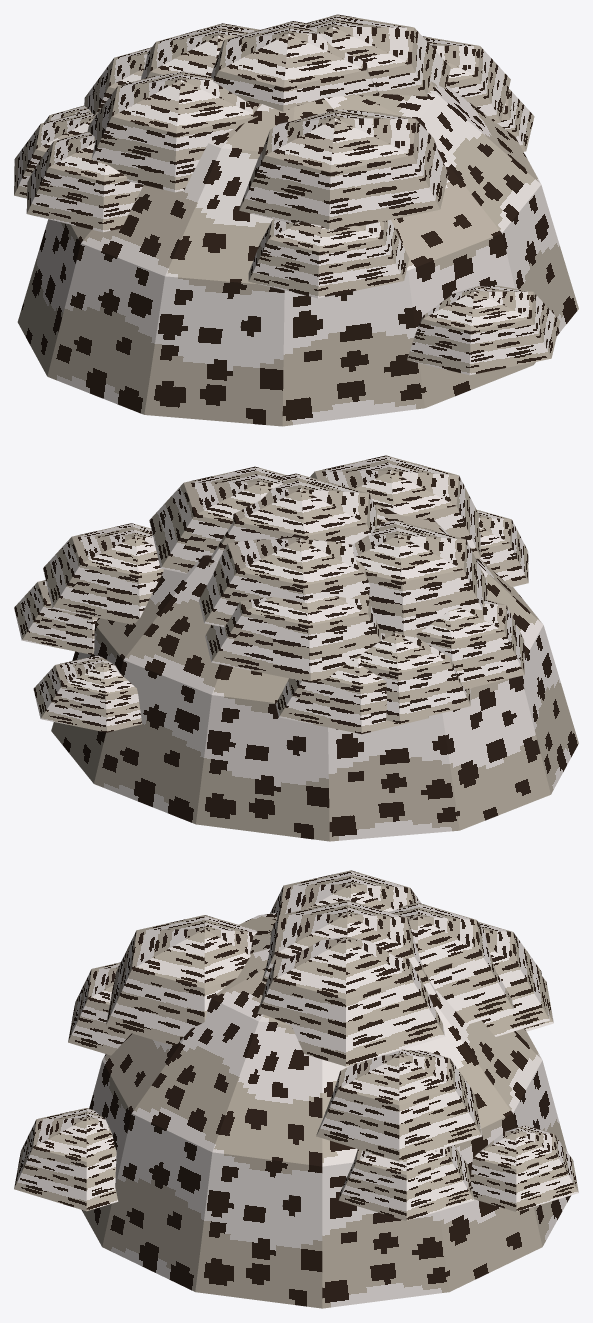
The model's file is TER-03_Amontonamiento_de_caparazones.gltf.
The picture shows the model from 3 angles, top to bottom: view 1: azimuth 30°, elevation 25°; view 2: azimuth 150°, elevation 25°; view 3: azimuth 270°, elevation 25°; orthographic projection. The views are drawn at different scales.
Visible parts, largest first — view 1: TER-03_Amontonamiento_de_caparazones; view 2: TER-03_Amontonamiento_de_caparazones; view 3: TER-03_Amontonamiento_de_caparazones.
Part boxes in pixels (box(x1,y1,x2,y2)): TER-03_Amontonamiento_de_caparazones: box(14, 14, 578, 426); TER-03_Amontonamiento_de_caparazones: box(14, 455, 578, 841); TER-03_Amontonamiento_de_caparazones: box(14, 870, 578, 1308).
Size of what is drawn, in the model's own units: 1.55 by 0.7636 by 1.43.
1 material, 1 textured.
